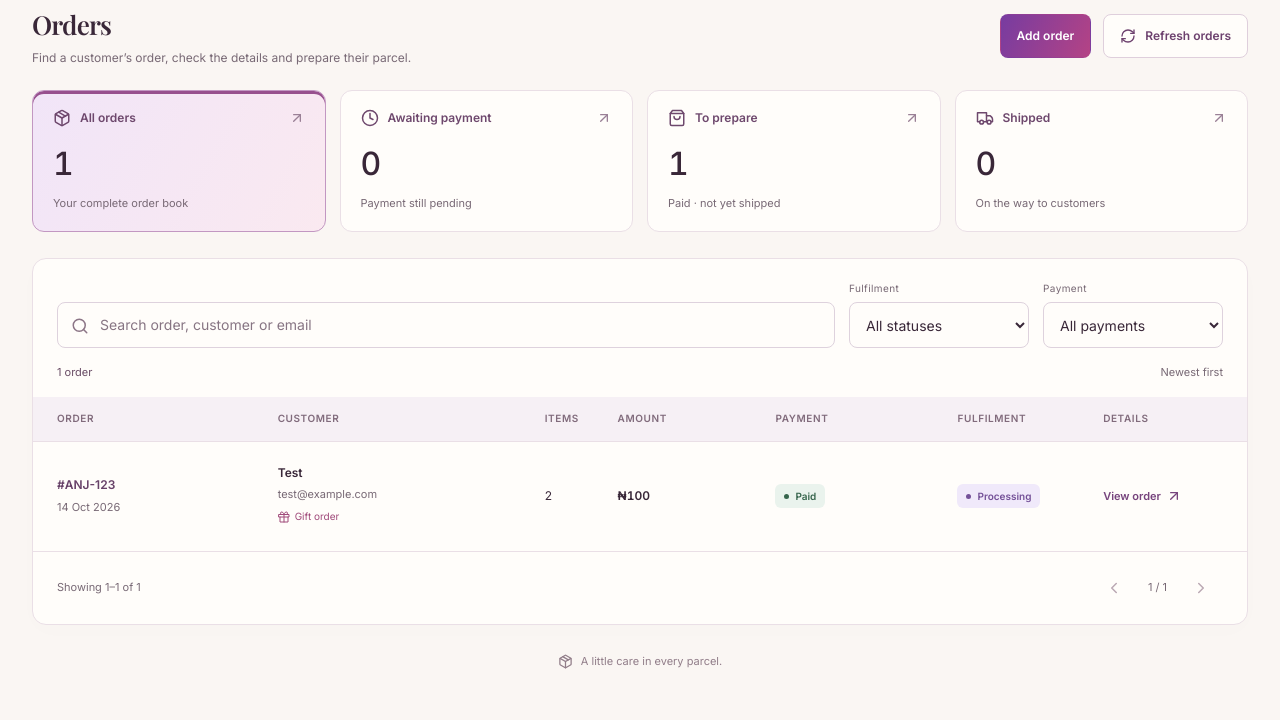
Scenario: admin can open purchased items, see pack quantities and historical prices, then close with keyboard
The width and height of the screenshot is (1280, 720).
(page scrolled)
Check: the text "Cosmetic bag" is not shown
Step 1. Click the button with aria-label "View order ANJ-123" → (1142, 496), box [1103,474,1182,518]
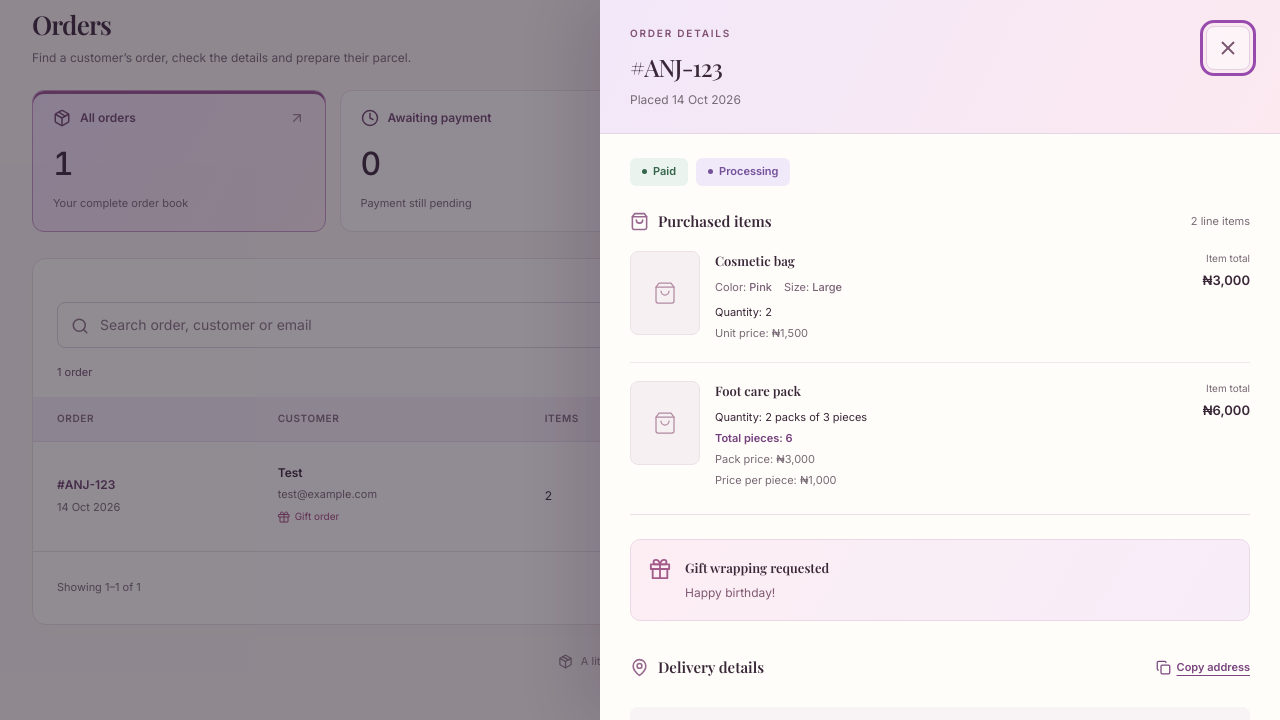
Check: the dialog "#ANJ-123" is shown, box [600,0,1279,719]
Check: the heading "Cosmetic bag" is shown, box [715,252,795,269]
Check: the text "Unit price: ₦1,500" is shown, box [715,326,808,340]
Step 2. Press Escape
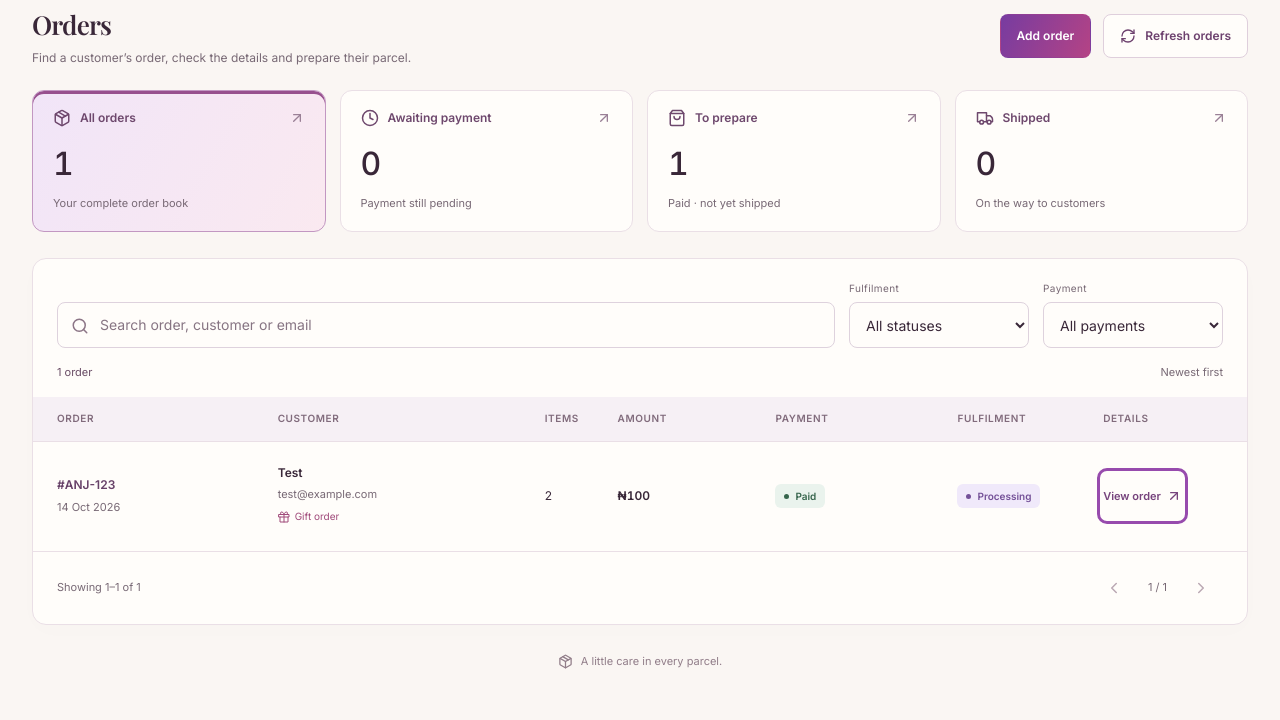
Check: the dialog is gone
Check: the heading "Cosmetic bag" is gone
